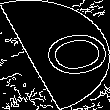O_W: (11, 26, 99, 84)
